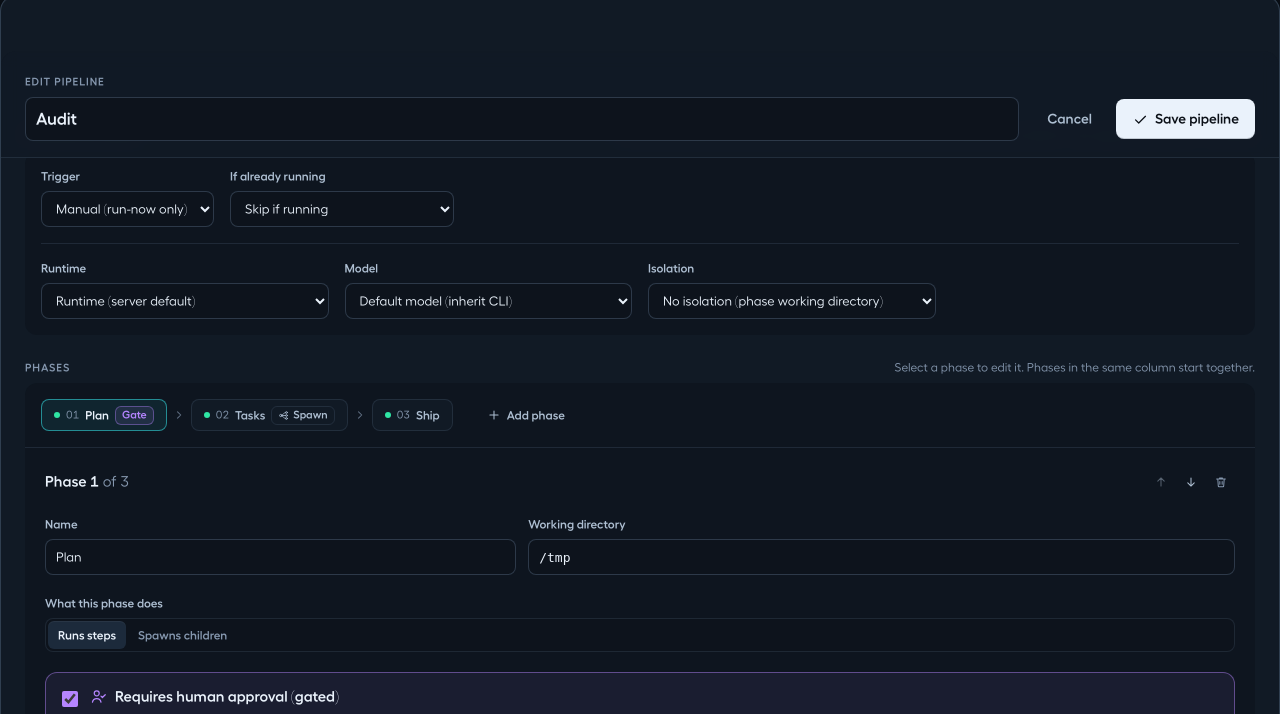
Scenario: authoring a spawn phase › gives a phase its steps back when switched back in the same sitting
This screenshot has width=1280, height=714.
Click the button with aria-label "Phase 3: Ship". click: click(412, 416)
box: [372, 400, 453, 432]
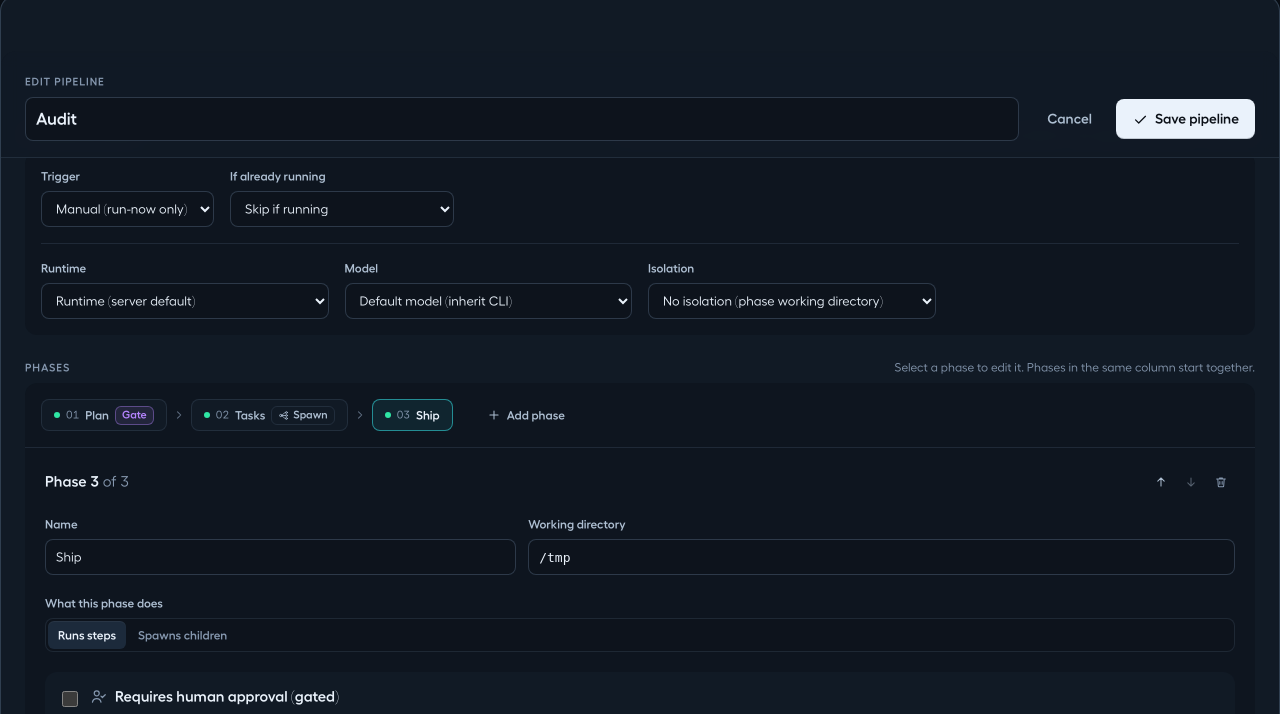
Click the radio button labelled "Spawns children". click: click(183, 635)
box: [128, 621, 237, 649]
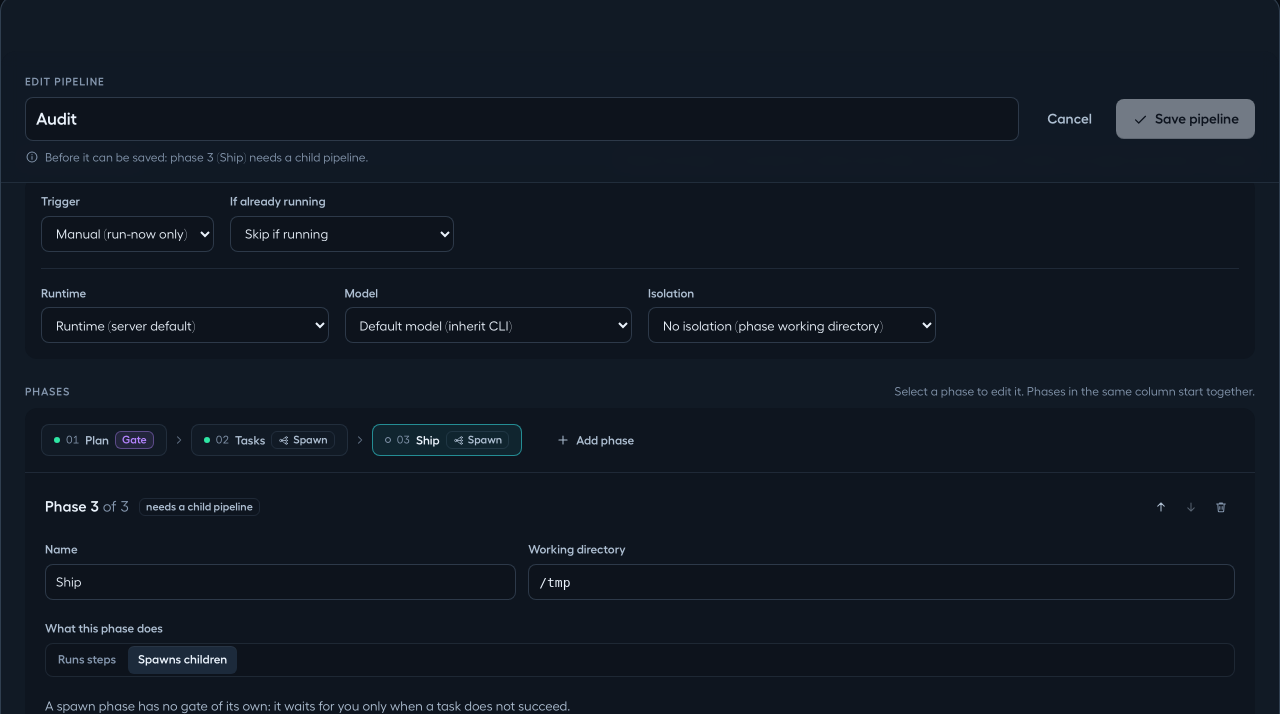
Click the radio button labelled "Runs steps". click: click(87, 660)
box: [48, 646, 126, 674]
(page scrolled)
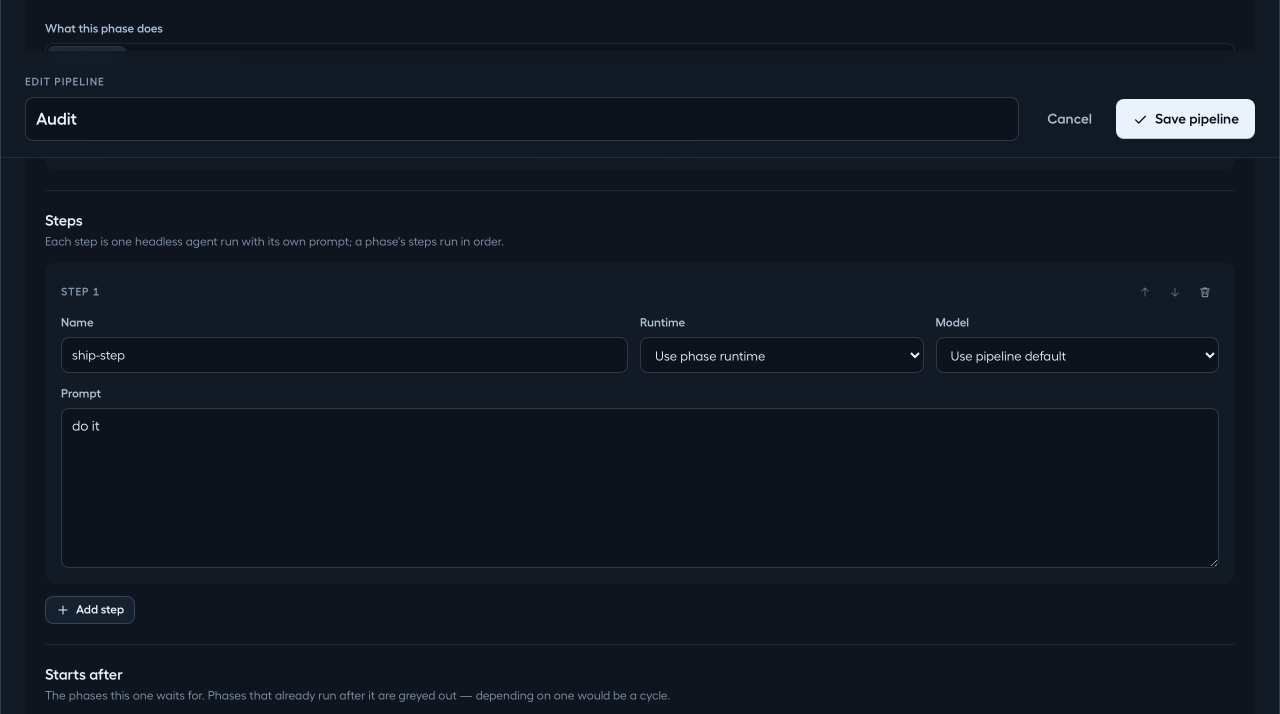
expect the text box named "Phase 3 step 1 prompt" holds "do it": met, box [61, 408, 1219, 568]
expect the field named "Phase 3 step 1 name" holds "ship-step": met, box [61, 337, 628, 373]
